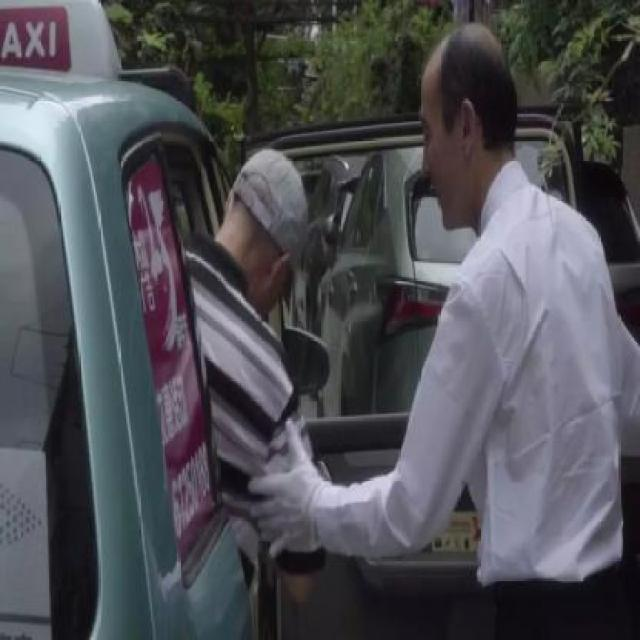face_nomask: (408, 101, 460, 237)
hand_glove: (246, 420, 317, 560)
head_nohelmet: (402, 23, 538, 83), (234, 144, 314, 241)
person: (361, 7, 640, 640)
